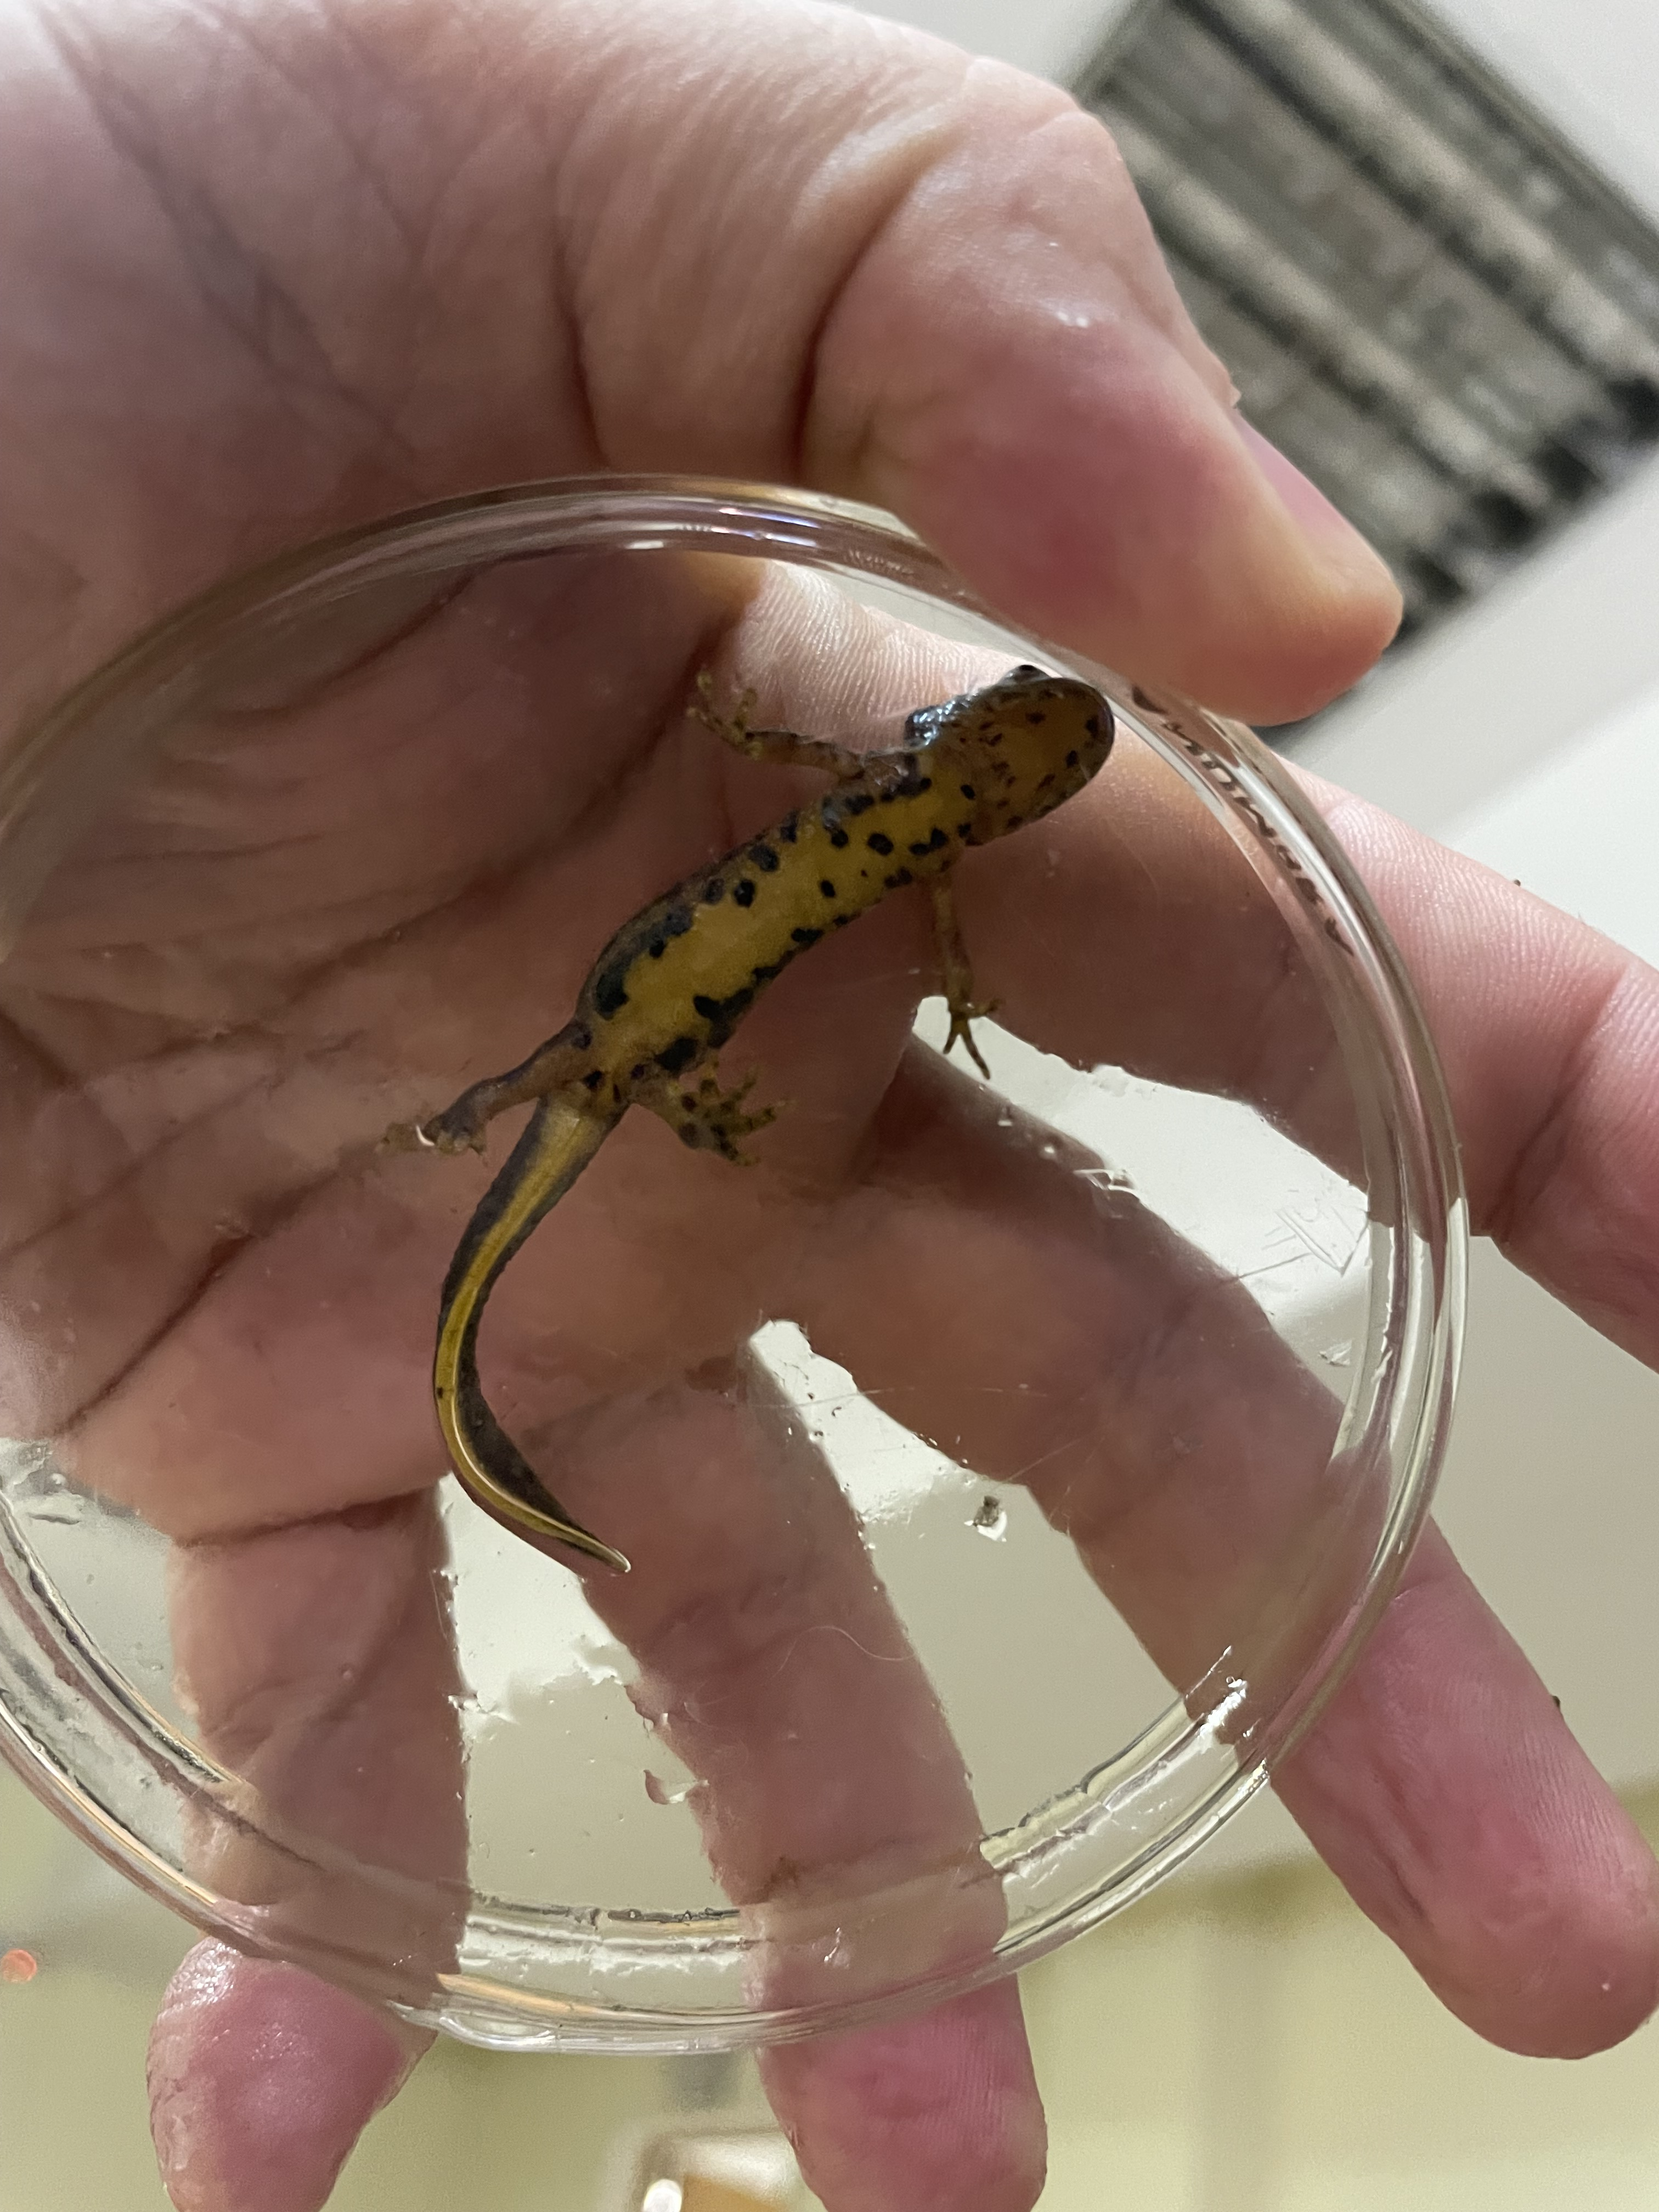Karelin_newt: (570, 787, 911, 1089)
